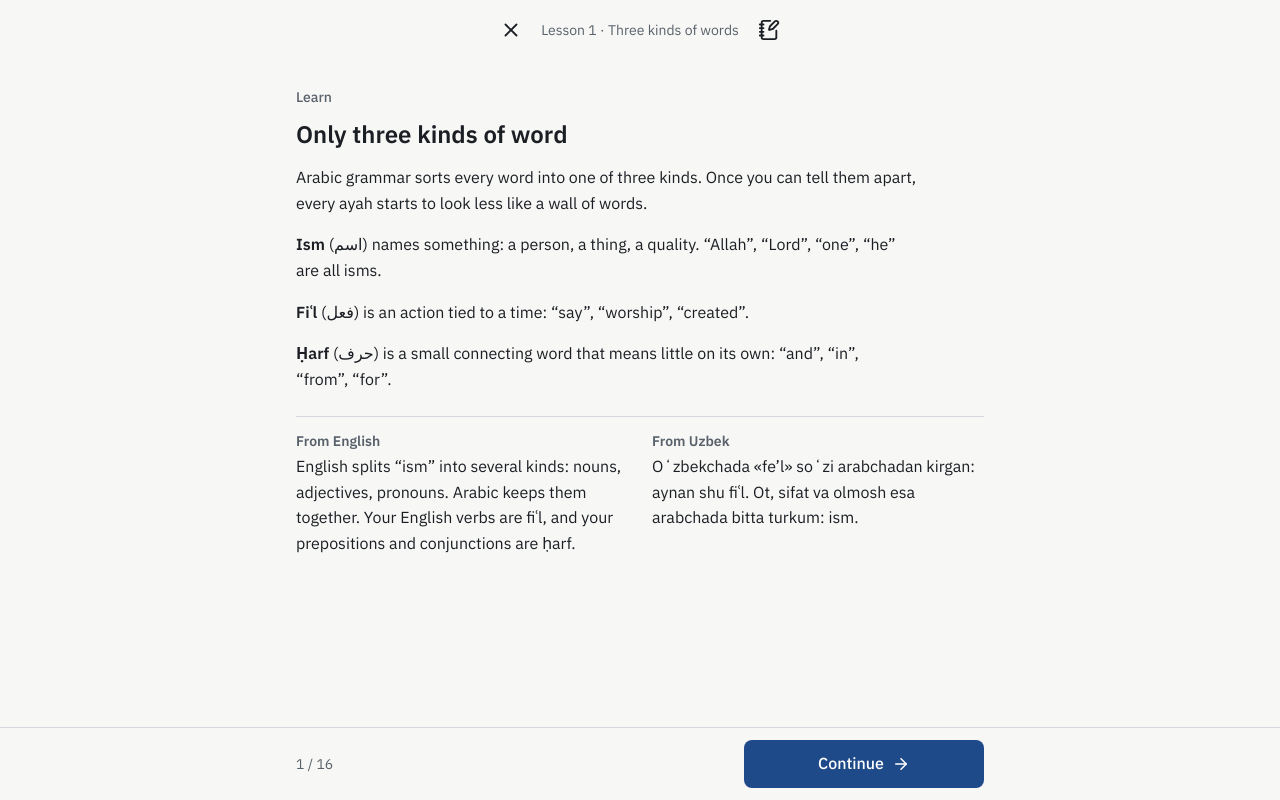
Scenario: screens › a session walks through lesson 1 and a wrong tap reveals the right word
# concept, step 2: example
Click the button "Continue": (864,764) [744,740,984,788]
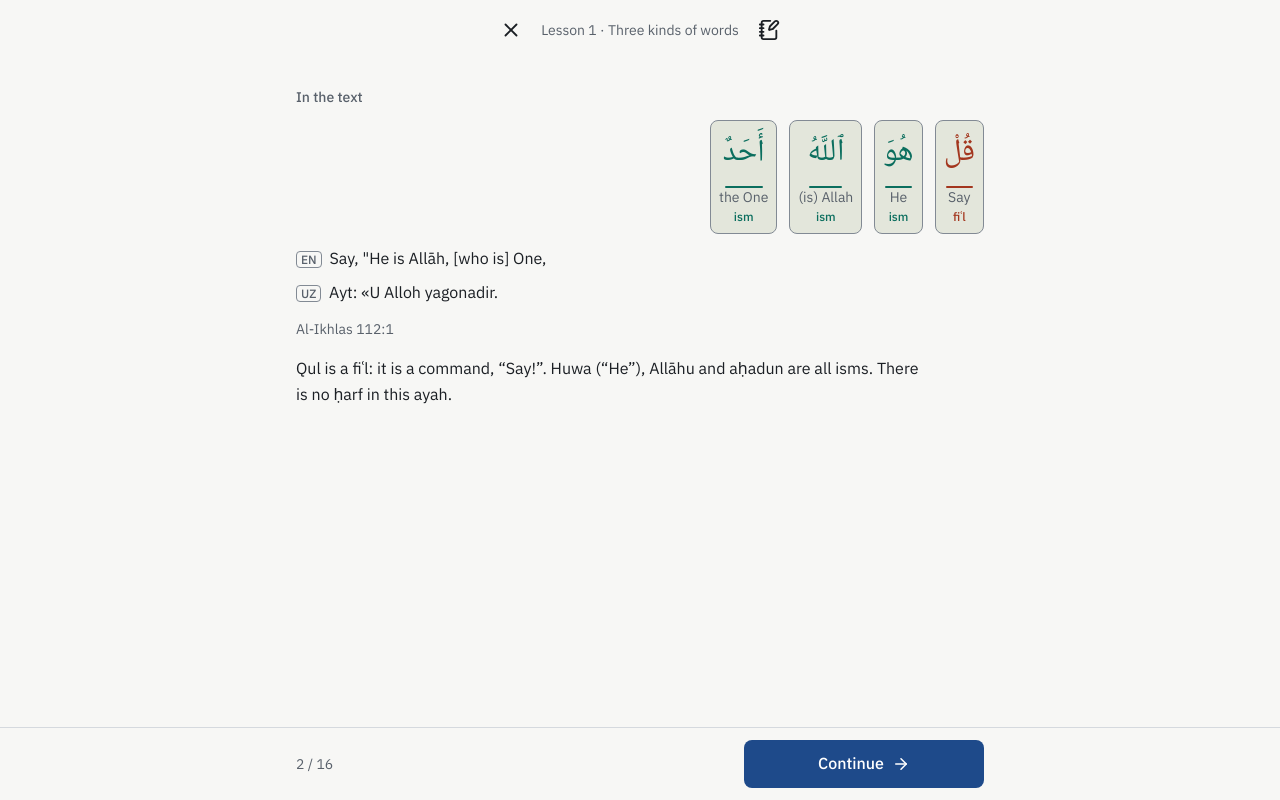
Click the button "Continue": (864,764) [744,740,984,788]
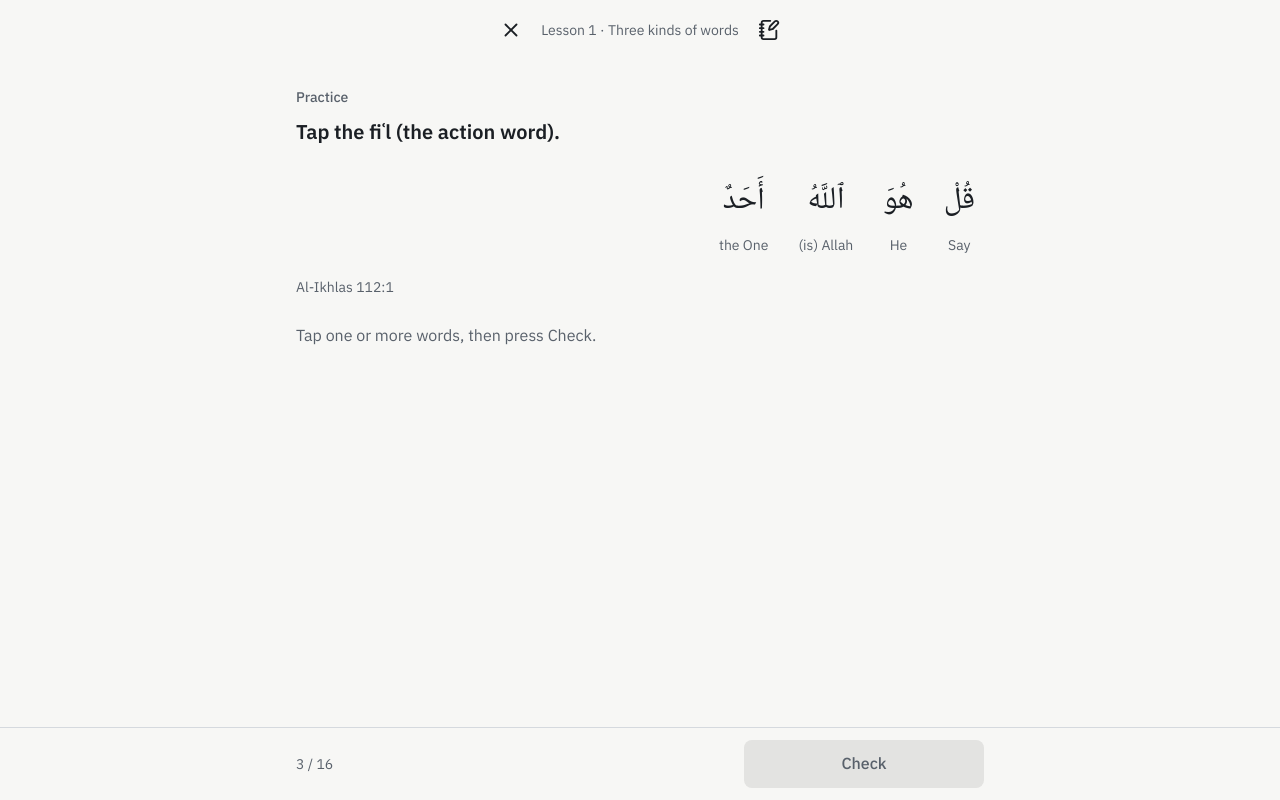
Now the button "Check" is disabled, box [744,740,984,788]
Click the button "ٱللَّهُ (is) Allah": (826,216) [789,168,862,264]
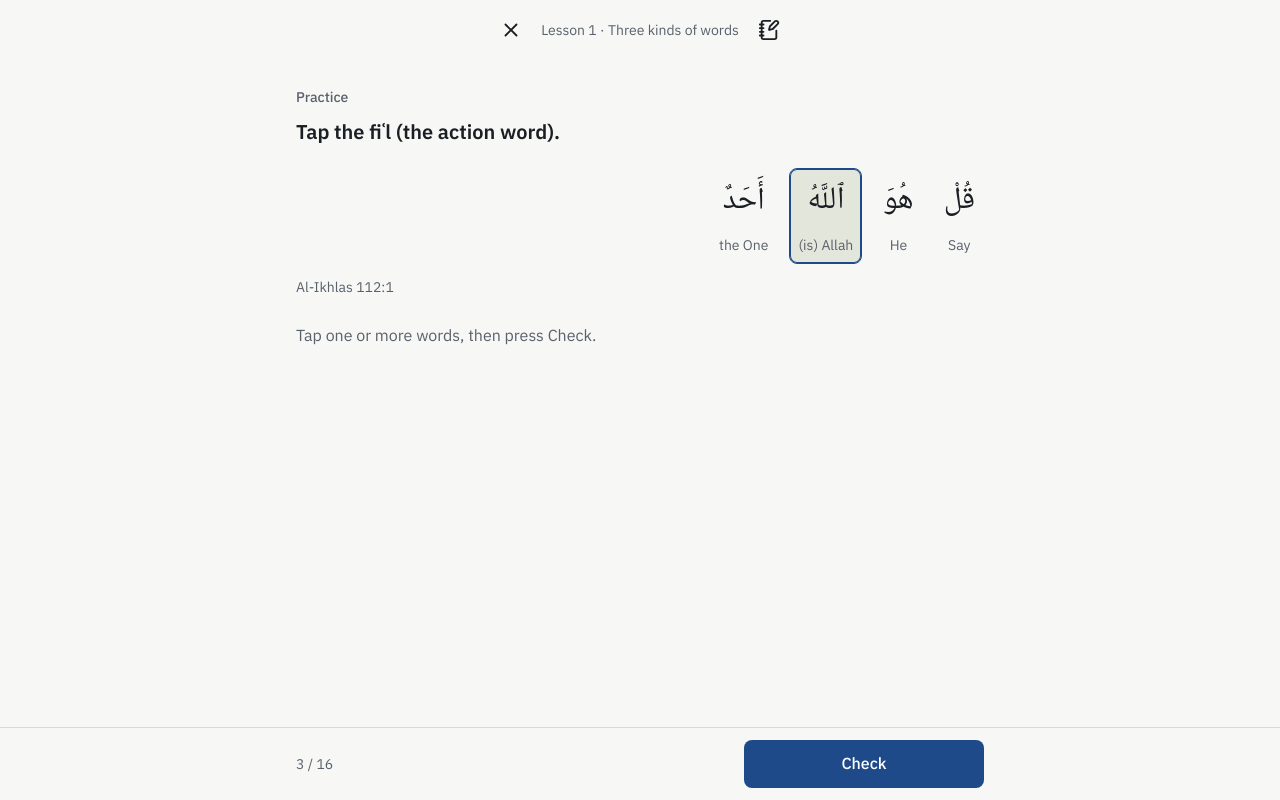
Click the button "Check": (864,764) [744,740,984,788]
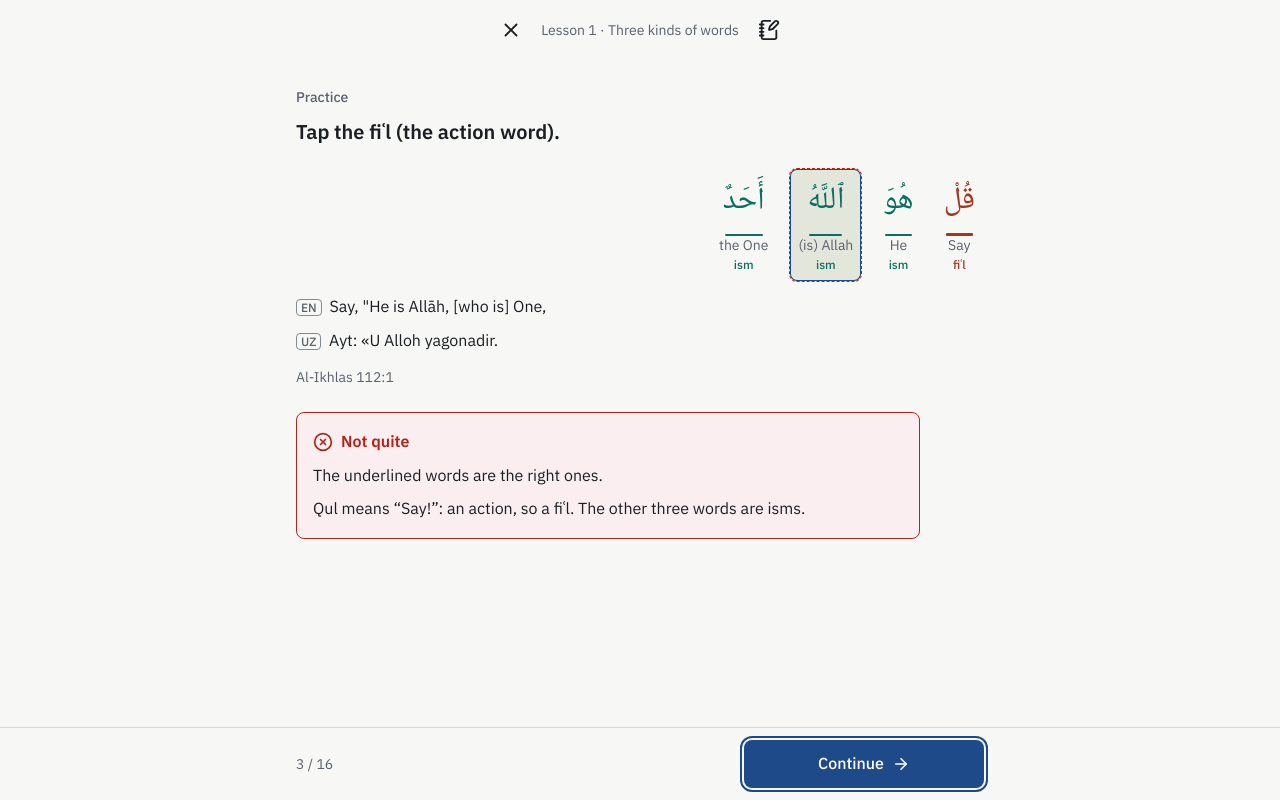
Expected: the element with class "is-answer" shows "Say", [948,236,970,254]
Now the text "Not quite" is shown, box [341,429,410,455]
Now the number of elements with class "is-answer" is 1, box [935,168,984,282]
